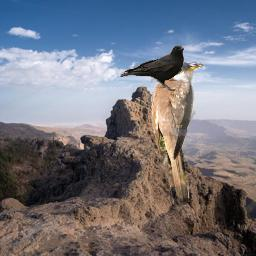Crow: (120, 45, 184, 91)
Cuckoo: (151, 62, 203, 206)
